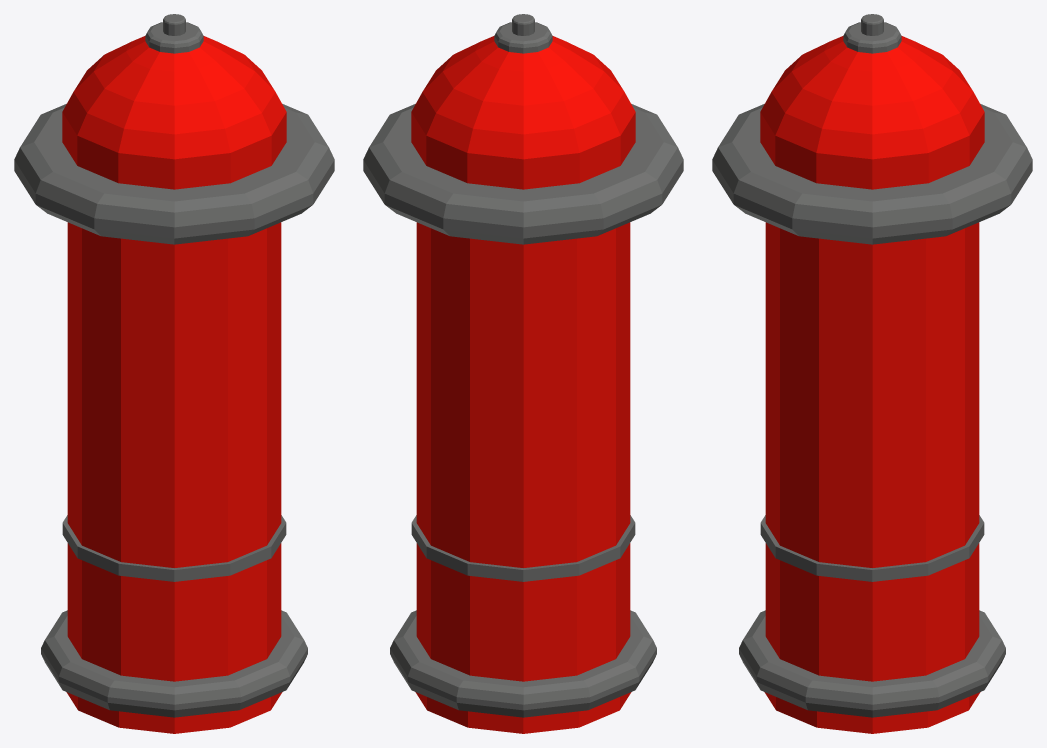
Rendered from TomaDeAgua.fbx.
The picture shows the model from 3 angles, left to right: view 1: azimuth 30°, elevation 25°; view 2: azimuth 150°, elevation 25°; view 3: azimuth 270°, elevation 25°; orthographic projection.
Visible parts, largest first — view 1: TomaDeAgua; view 2: TomaDeAgua; view 3: TomaDeAgua.
Part boxes in pixels (x1,y1,x2,y2): TomaDeAgua: [14, 14, 334, 733]; TomaDeAgua: [363, 14, 683, 733]; TomaDeAgua: [712, 14, 1032, 733].
Bounding box in the file's own units: 2.88 × 6.63 × 2.88.
